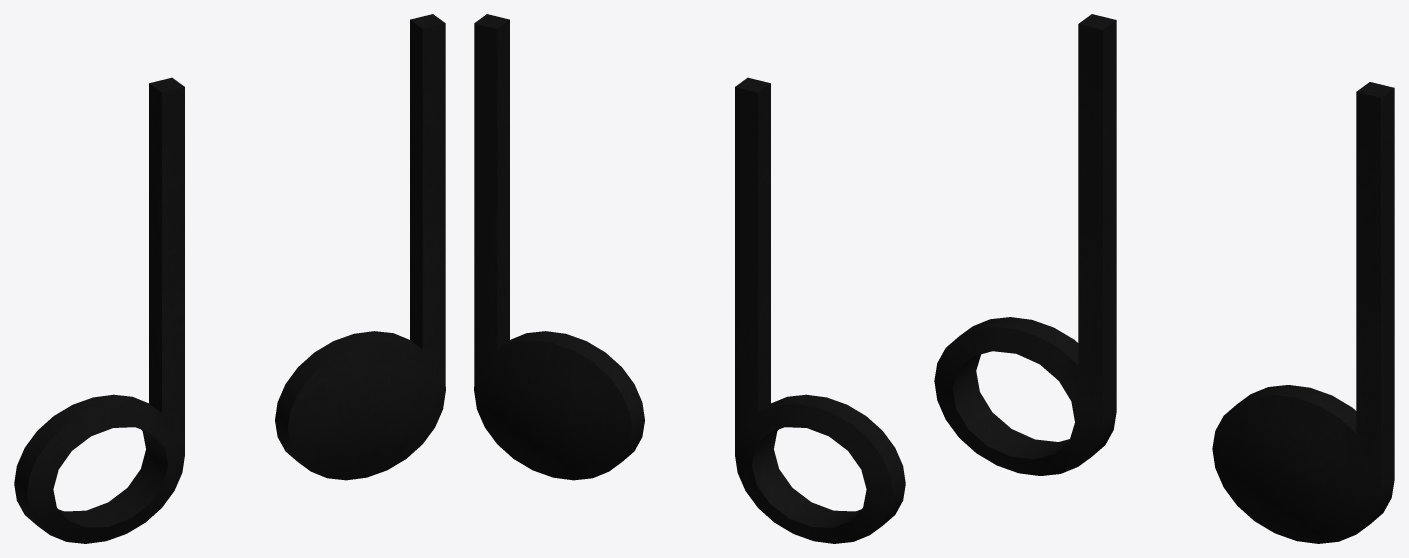
The model's file is MuscialNote.DAE.
The picture shows the model from 3 angles, left to right: view 1: azimuth 30°, elevation 25°; view 2: azimuth 150°, elevation 25°; view 3: azimuth 330°, elevation 25°; orthographic projection. The views are drawn at different scales.
Visible parts, largest first — view 1: MusicalNote2, MusicalNote1; view 2: MusicalNote2, MusicalNote1; view 3: MusicalNote2, MusicalNote1.
Boxes of the visible parts, left/top/right/bottom form: MusicalNote2: left=275, top=14, right=445, bottom=480; MusicalNote1: left=14, top=77, right=184, bottom=543; MusicalNote2: left=474, top=14, right=644, bottom=480; MusicalNote1: left=735, top=77, right=905, bottom=543; MusicalNote2: left=1212, top=82, right=1394, bottom=543; MusicalNote1: left=934, top=14, right=1116, bottom=475.
Bounding box in the file's own units: 1.45 × 1.44 × 0.1822.
